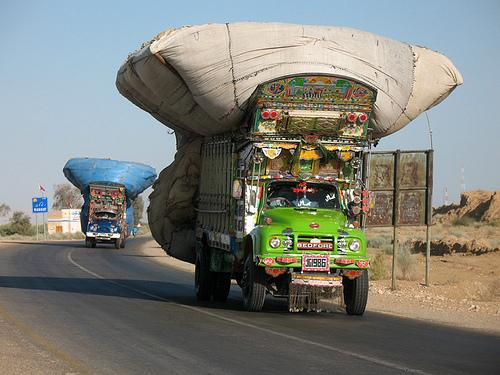truck: (115, 21, 464, 317), (62, 157, 157, 251)
